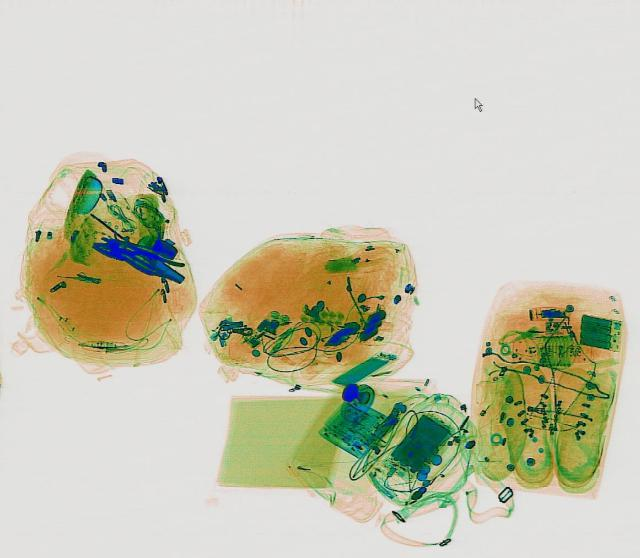Pliers: (86, 232, 190, 284)
